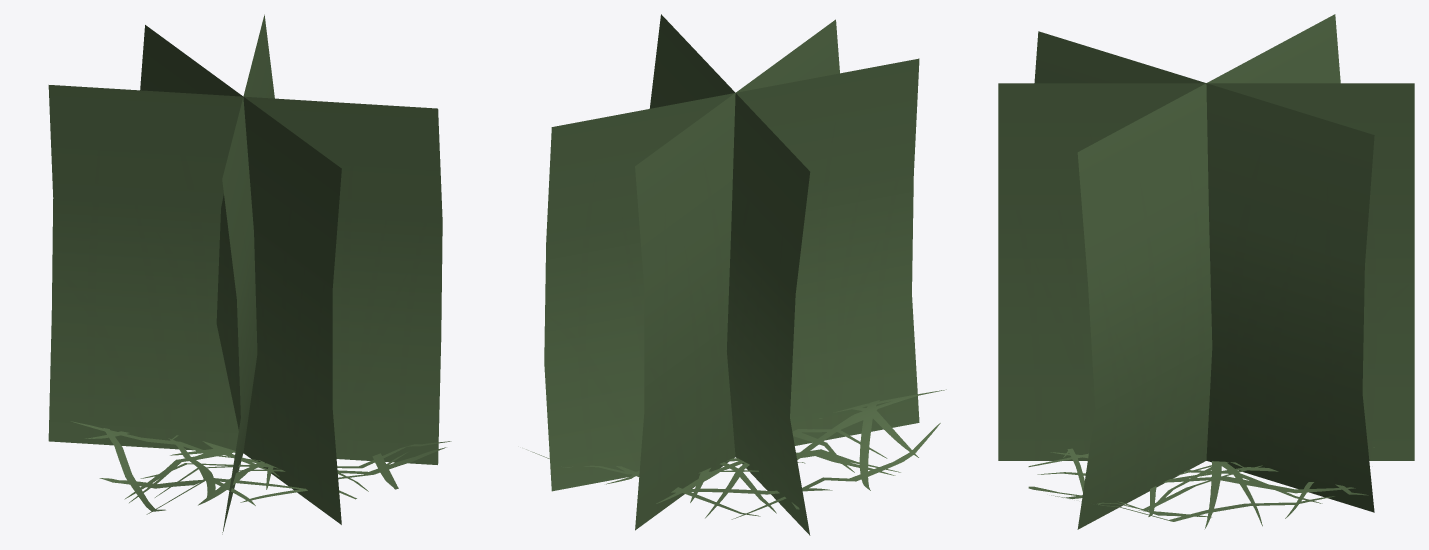
Rendered from grassTuft.fbx.
3 views of the same model, side by side, from view 1: azimuth 30°, elevation 25°; view 2: azimuth 150°, elevation 25°; view 3: azimuth 270°, elevation 25° (orthographic). The views are drawn at different scales.
Parts seen in each view (by area): view 1: grassTall_plane7; view 2: grassTall_plane7; view 3: grassTall_plane7.
Part boxes in pixels (<box>): grassTall_plane7: <box>48,14,451,534</box>; grassTall_plane7: <box>526,14,946,535</box>; grassTall_plane7: <box>998,14,1414,529</box>.
Bounding box in the file's own units: 103 × 121 × 121.
Materials: 2 (2 with a texture image).
